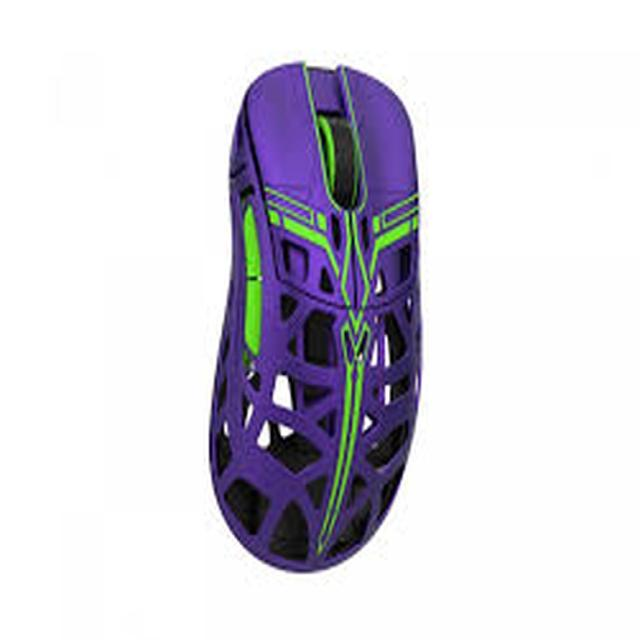mouse: (189, 34, 438, 591)
